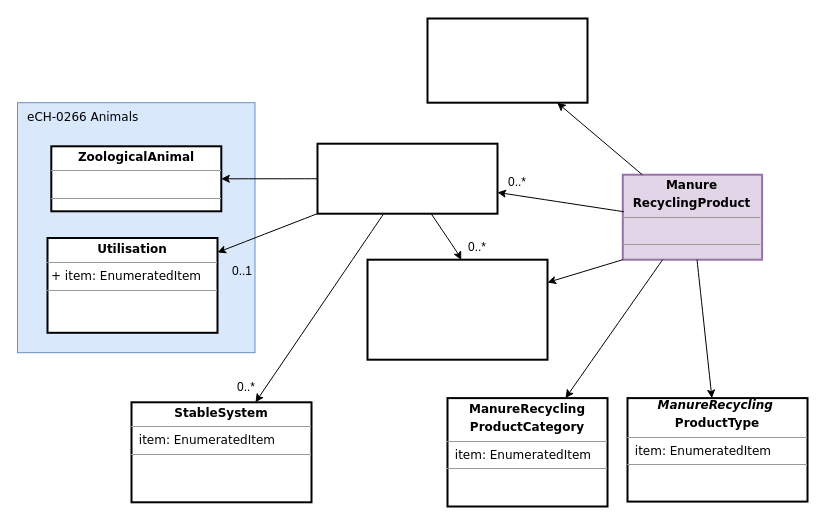
Image size: 826x524. Some labels were removed from this diagram. The shapes that lost their labels are listed below. From the top down, each one's centre as x and y in pixels, then its label:
(x=507, y=60): MatterState item: EnumeratedItem
(x=407, y=178): ManureDerivation +percentage: decimal
(x=457, y=309): «enumeration» NprCode + id: EnumeratedItem + descriptor: Descriptor
